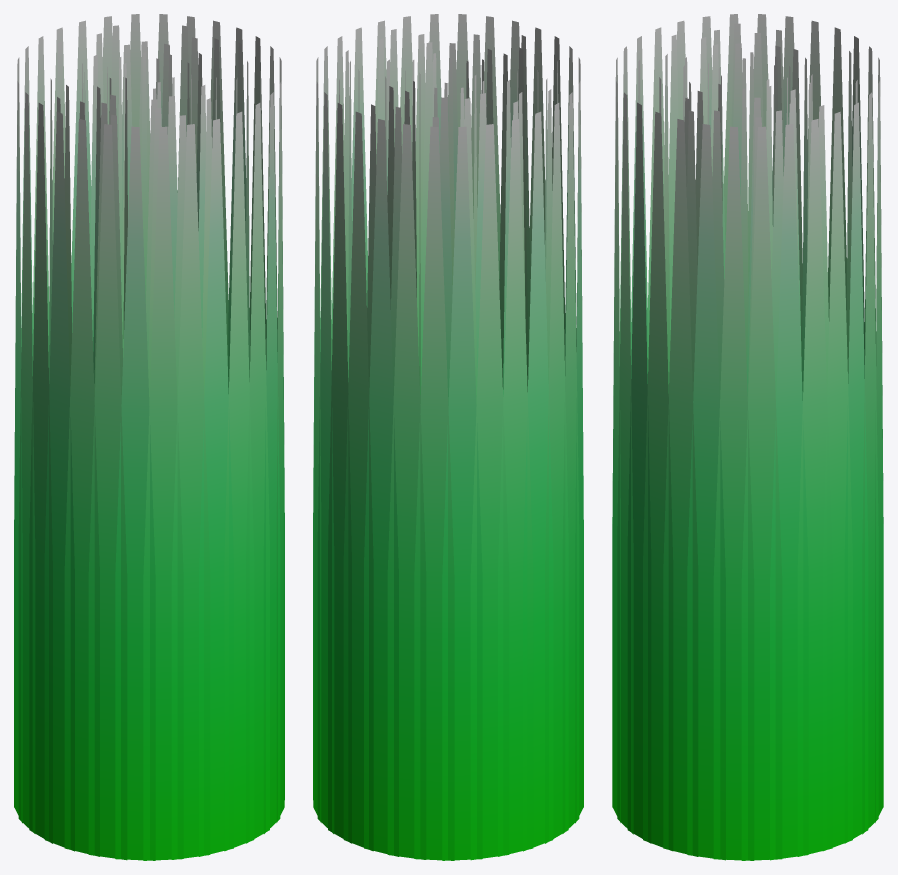
Rendered from brush_v2100_f1950_20220413.fbx.
3 views of the same model, side by side, from view 1: azimuth 30°, elevation 25°; view 2: azimuth 150°, elevation 25°; view 3: azimuth 270°, elevation 25° (orthographic).
Parts seen in each view (by area): view 1: brush_v2100_f1950.001; view 2: brush_v2100_f1950.001; view 3: brush_v2100_f1950.001.
Part boxes in pixels (bbox=[...]): brush_v2100_f1950.001: bbox=[14, 14, 284, 860]; brush_v2100_f1950.001: bbox=[313, 14, 583, 860]; brush_v2100_f1950.001: bbox=[612, 14, 883, 860].
Bounding box in the file's own units: 201 × 600 × 201.
